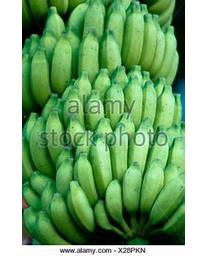banana: (21, 0, 181, 243)
